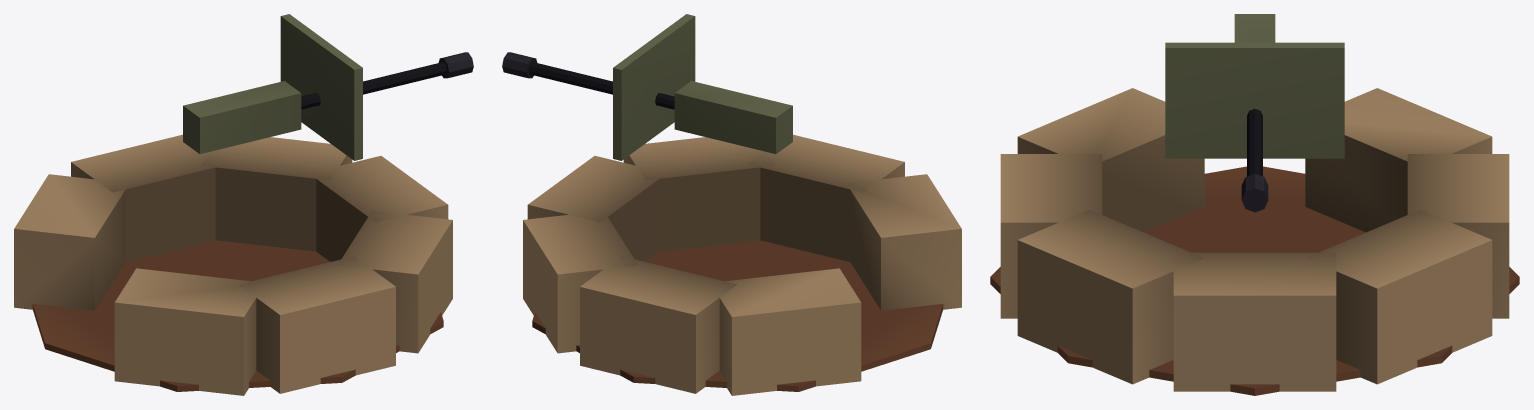
The picture shows the model from 3 angles, left to right: view 1: azimuth 30°, elevation 25°; view 2: azimuth 150°, elevation 25°; view 3: azimuth 270°, elevation 25°; orthographic projection. The views are drawn at different scales.
Parts seen in each view (by area): view 1: body_pal_picketWhite, gun_pal_picketWhite; view 2: body_pal_picketWhite, gun_pal_picketWhite; view 3: body_pal_picketWhite, gun_pal_picketWhite.
Boxes of the visible parts, x1,y1,x2,y2 form: body_pal_picketWhite: (14,134,452,395); gun_pal_picketWhite: (183,14,473,160); body_pal_picketWhite: (523,134,961,395); gun_pal_picketWhite: (502,14,792,160); body_pal_picketWhite: (990,88,1519,395); gun_pal_picketWhite: (1165,14,1344,212).
Bounding box in the file's own units: 2.92 × 1.58 × 2.6.
